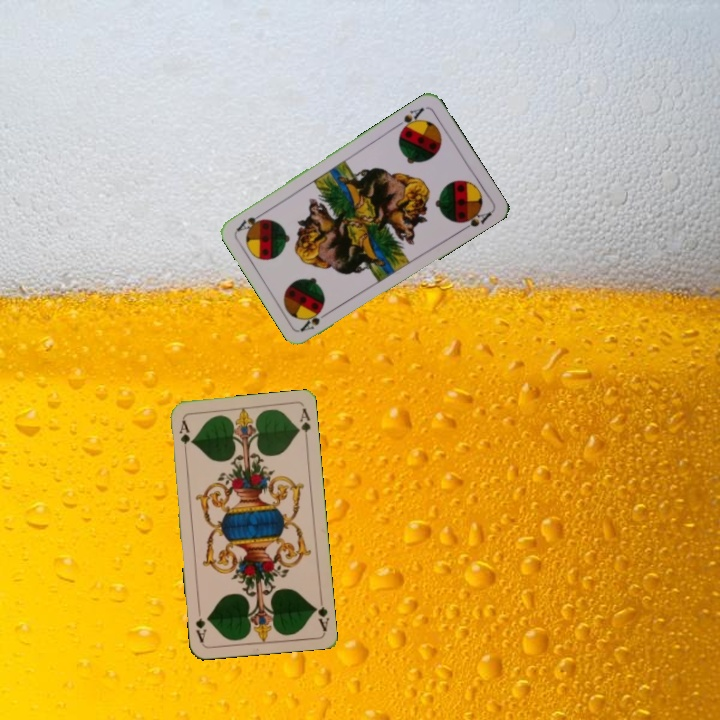GA: (310, 592, 331, 633), (175, 416, 194, 456)
SA: (391, 103, 427, 135), (297, 306, 334, 334)
